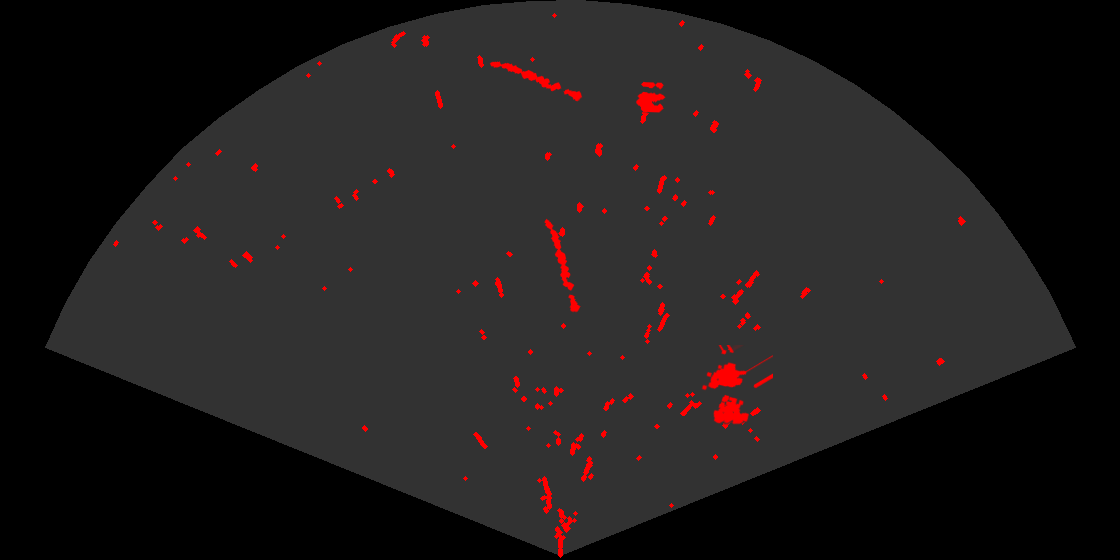ball: (635, 80, 667, 114)
cage: (700, 345, 773, 426)
chain: (488, 60, 584, 103), (543, 217, 582, 314)
